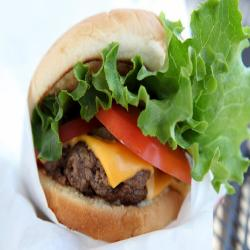burger: (23, 4, 200, 241)
salad: (146, 4, 250, 190), (30, 61, 176, 124)
